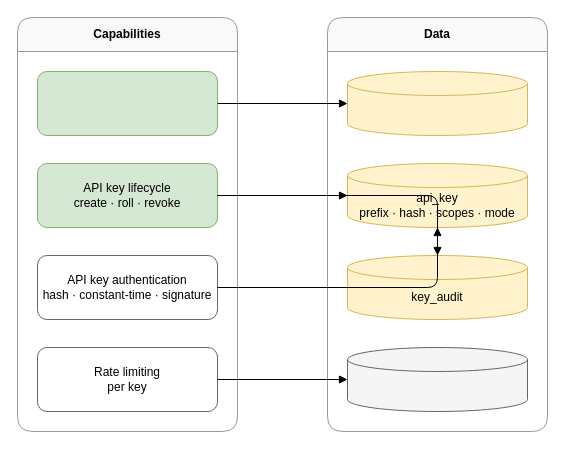
Image size: 565x449. Some labels were removed from this diagram. Each missing label, with the centre of its shape:
"Merchant registration company verification" belongs at [127,103].
"merchant status · company" belongs at [437,103].
"rate-limit buckets" belongs at [437,379].
